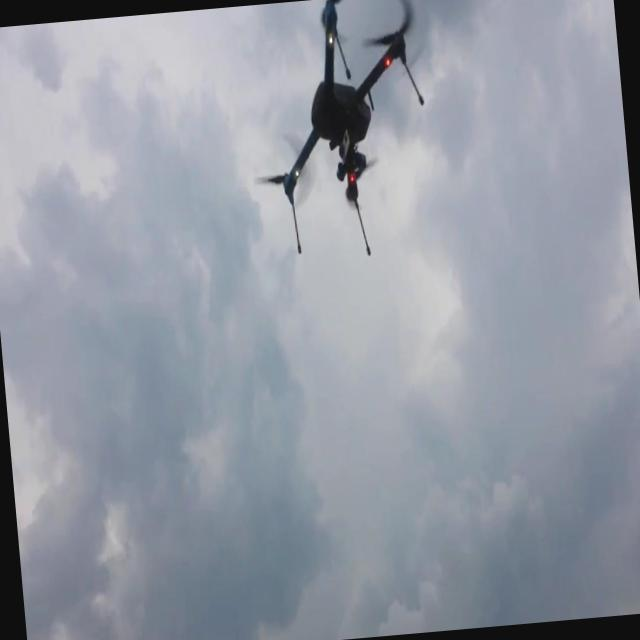drone: (254, 0, 438, 265)
